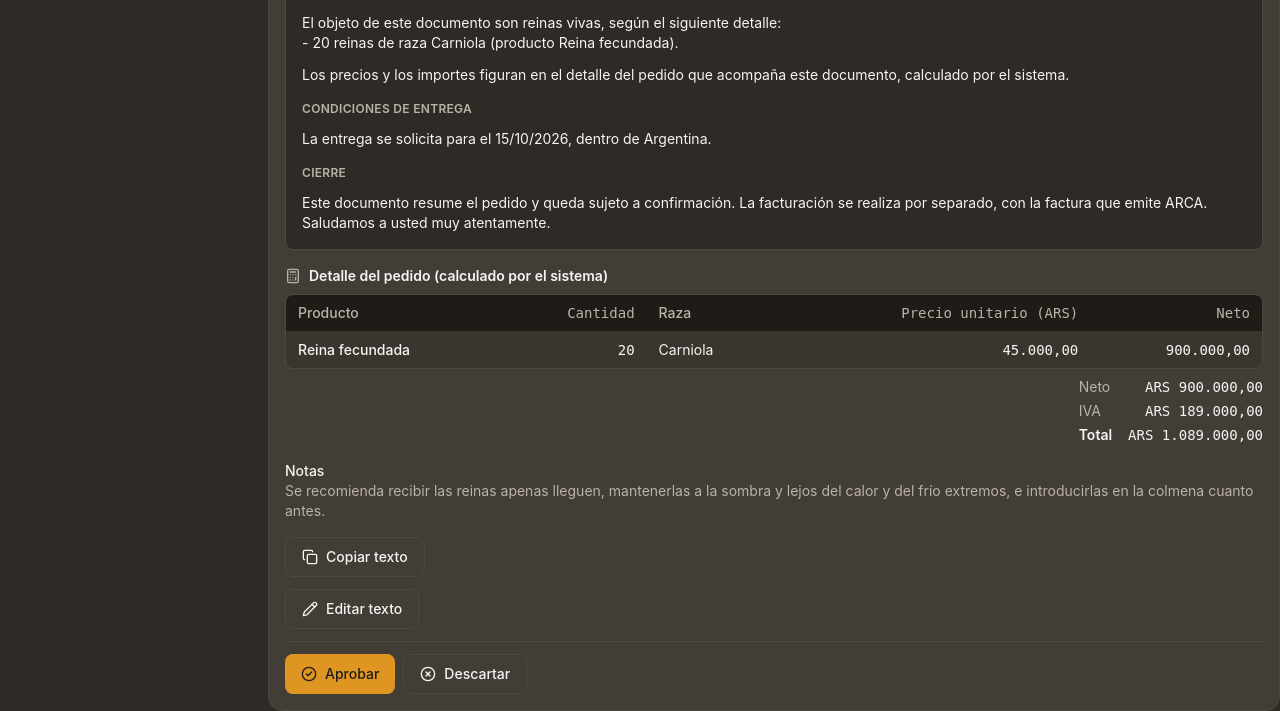
Scenario: aprobación del borrador en el detalle del pedido › aprobar › un comprobante de otro cliente se avisa junto al selector
This screenshot has width=1280, height=711.
(page scrolled)
Click the button "Aprobar" at (340, 674), box [285,654,395,694]
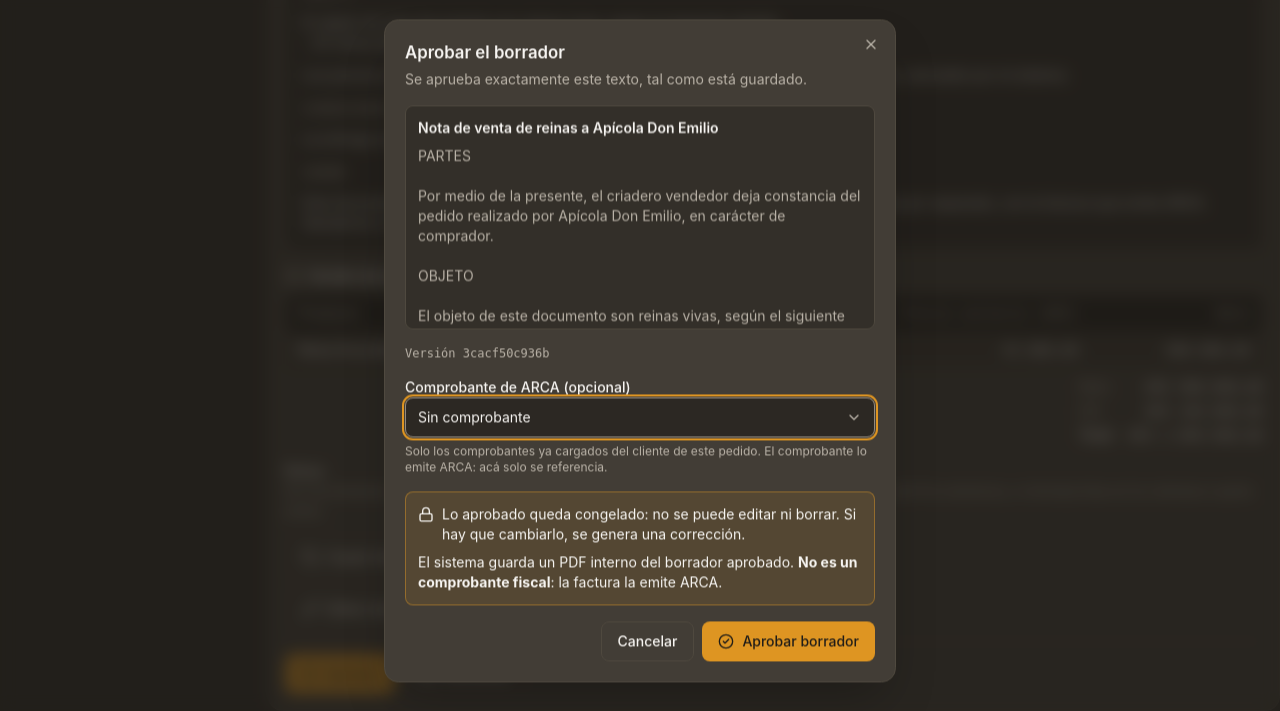
Click the button "Aprobar borrador" at (789, 642), box [702,622,875,662]
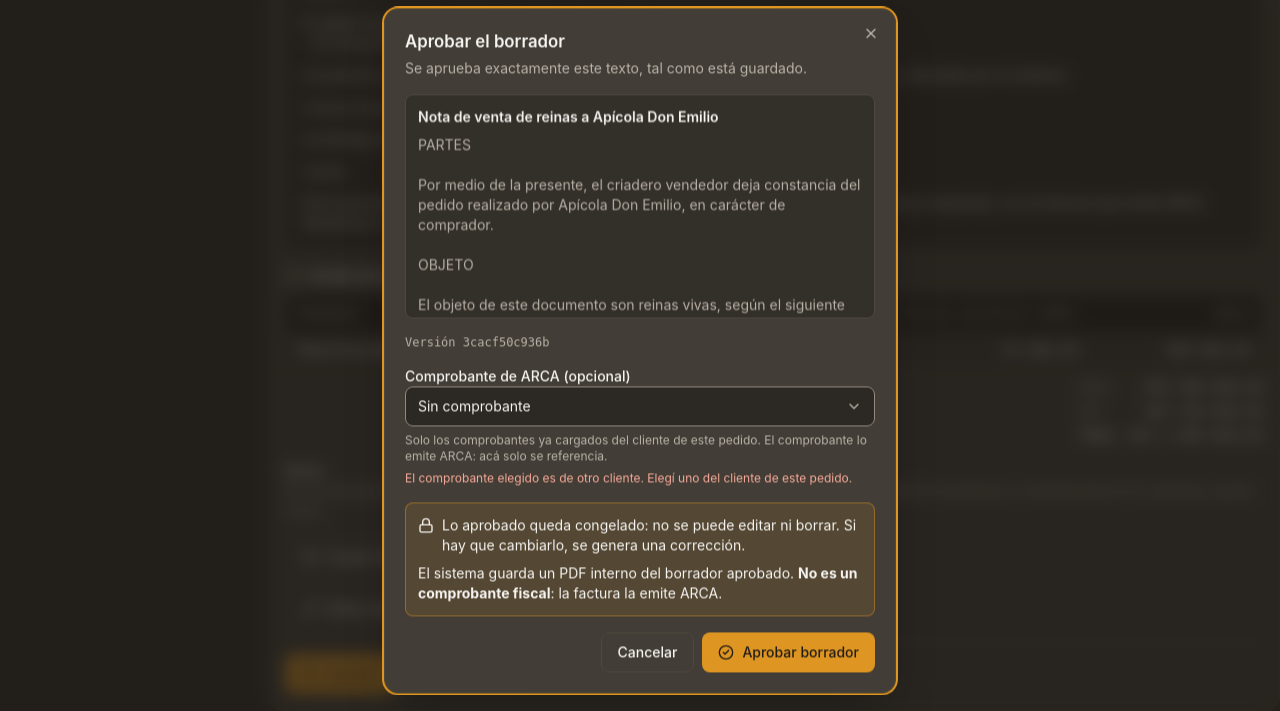
expect the dialog is shown: met, box [384,8,896,694]
expect the text "es de otro cliente" is shown: met, box [405,471,852,486]
